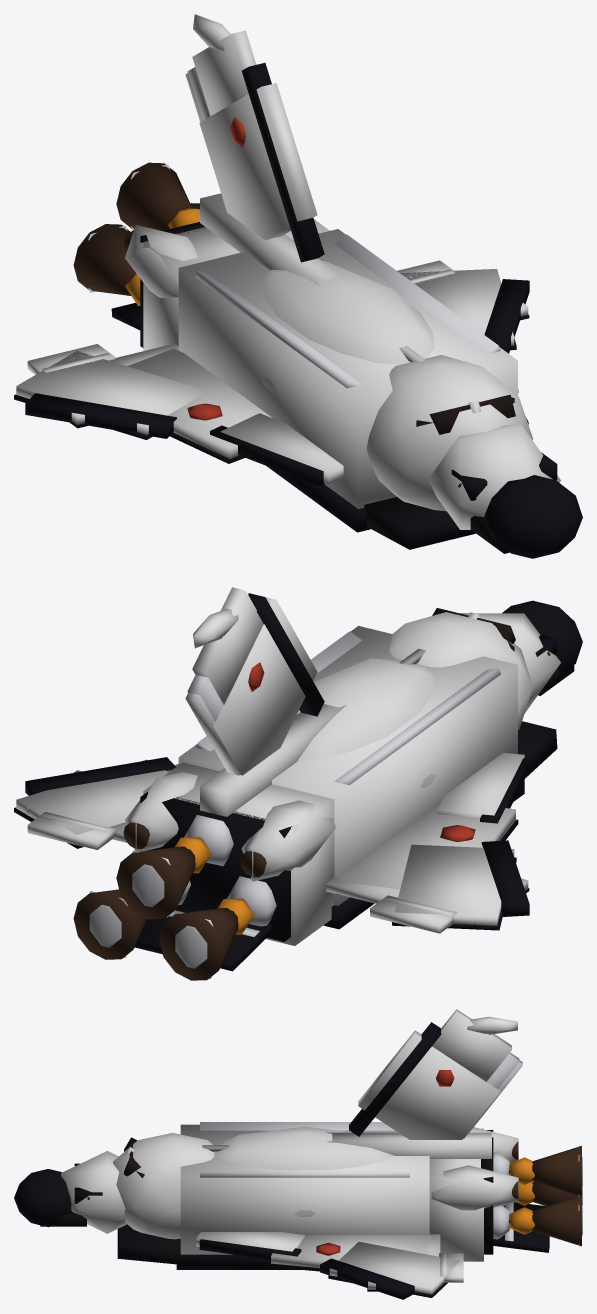
Rendered from shuttle.glb.
3 views of the same model, one above another, from view 1: azimuth 30°, elevation 25°; view 2: azimuth 150°, elevation 25°; view 3: azimuth 270°, elevation 25° (orthographic). The views are drawn at different scales.
Visible parts, largest first — view 1: shuttle; view 2: shuttle; view 3: shuttle.
Boxes of the visible parts, x1,y1,x2,y2 form: shuttle: (14, 14, 582, 558); shuttle: (14, 587, 582, 980); shuttle: (14, 1009, 582, 1299).
Bounding box in the file's own units: 2.59 × 1.63 × 3.66.
